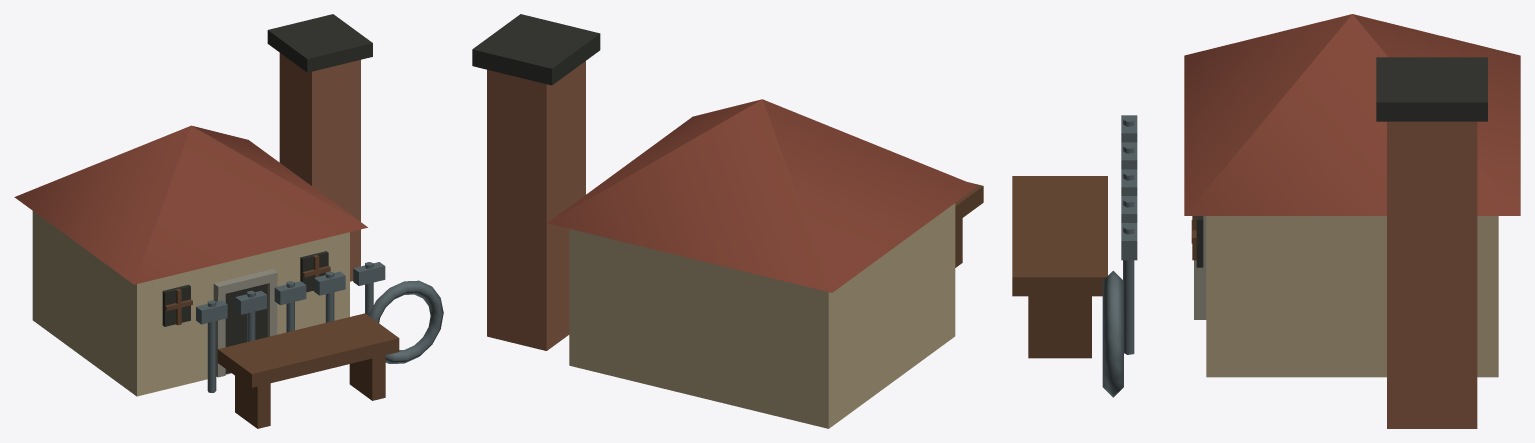
Rendered from custom-imp-toolmaker.glb.
3 renders of one model, left to right at view 1: azimuth 30°, elevation 25°; view 2: azimuth 150°, elevation 25°; view 3: azimuth 270°, elevation 25°, orthographic. The views are drawn at different scales.
Parts seen in each view (by area): view 1: custom-imp-toolmaker; view 2: custom-imp-toolmaker; view 3: custom-imp-toolmaker.
Part boxes in pixels (x1,y1,x2,y2): custom-imp-toolmaker: (14, 14, 443, 428); custom-imp-toolmaker: (472, 14, 983, 428); custom-imp-toolmaker: (1012, 14, 1520, 428).
Bounding box in the file's own units: 0.9804 × 0.7215 × 1.
